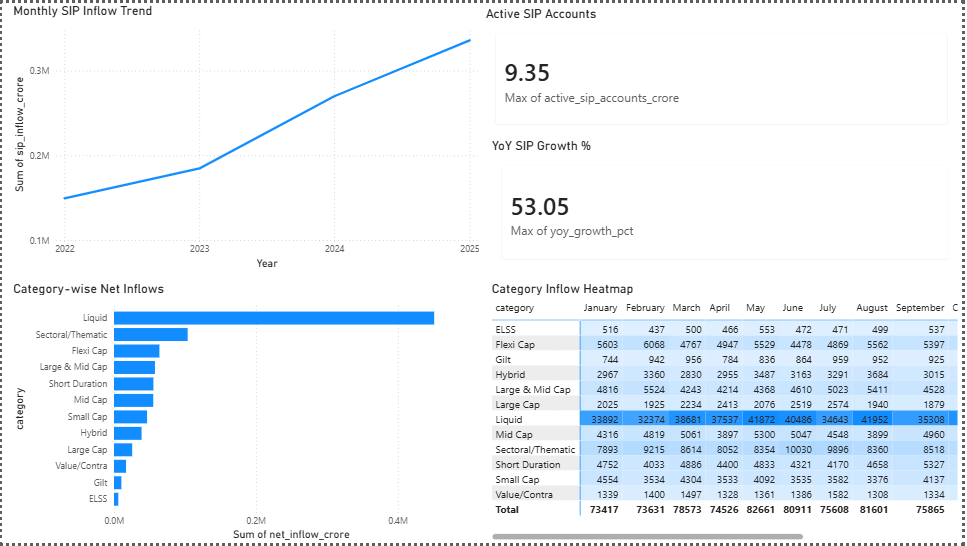

The dashboard page shown, as its layout file describes it:
{"tool":"powerbi","page":{"name":"SIP & Market Trends","canvas":[1280,720],"ordinal":3},"visuals":[{"type":"lineChart","title":"Monthly SIP Inflow Trend","fields":{"Category":["clean_monthly_sip_inflows.month.Variation.Date Hierarchy.Year","clean_monthly_sip_inflows.month.Variation.Date Hierarchy.Quarter","clean_monthly_sip_inflows.month.Variation.Date Hierarchy.Month","clean_monthly_sip_inflows.month.Variation.Date Hierarchy.Day"],"Y":["Sum(clean_monthly_sip_inflows.sip_inflow_crore)"]},"box":[9.4,0,631.2,359.1],"z":0},{"type":"cardVisual","title":"Active SIP Accounts","fields":{"Data":["Max(clean_monthly_sip_inflows.active_sip_accounts_crore)"]},"box":[640.6,3.8,638.7,175.7],"z":1},{"type":"cardVisual","title":"YoY SIP Growth %","fields":{"Data":["Max(clean_monthly_sip_inflows.yoy_growth_pct)"]},"box":[648.2,179.5,631.2,179.5],"z":2},{"type":"clusteredBarChart","title":"Category-wise Net Inflows","fields":{"Category":["clean_category_inflows.category"],"Y":["Sum(clean_category_inflows.net_inflow_crore)"]},"box":[9,369,631,351],"z":3},{"type":"pivotTable","title":"Category Inflow Heatmap","fields":{"Rows":["clean_category_inflows.category"],"Values":["Sum(clean_category_inflows.net_inflow_crore)"],"Columns":["clean_category_inflows.month.Variation.Date Hierarchy.Month"]},"box":[648,369,631,351],"z":4}]}

Visuals, with their boxes in screenshot pixels (x1, y1, x2, y2), scaled from the page's 1280x720 canvas onto the 967x546 screenshot:
"Monthly SIP Inflow Trend" lineChart: 7 0 484 272
"Active SIP Accounts" cardVisual: 484 3 966 136
"YoY SIP Growth %" cardVisual: 490 136 966 272
"Category-wise Net Inflows" clusteredBarChart: 7 280 484 545
"Category Inflow Heatmap" pivotTable: 490 280 966 545
